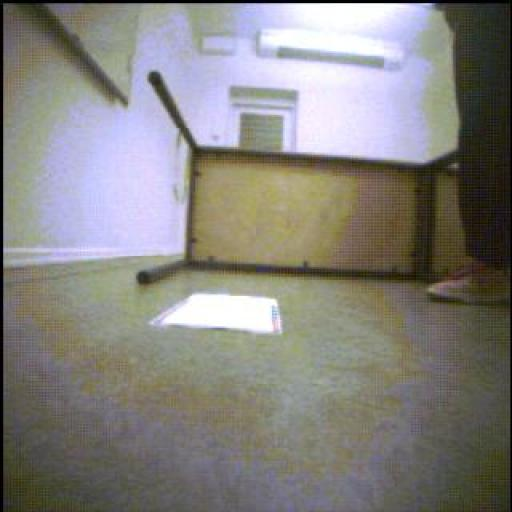Pad: (152, 294, 283, 335)
